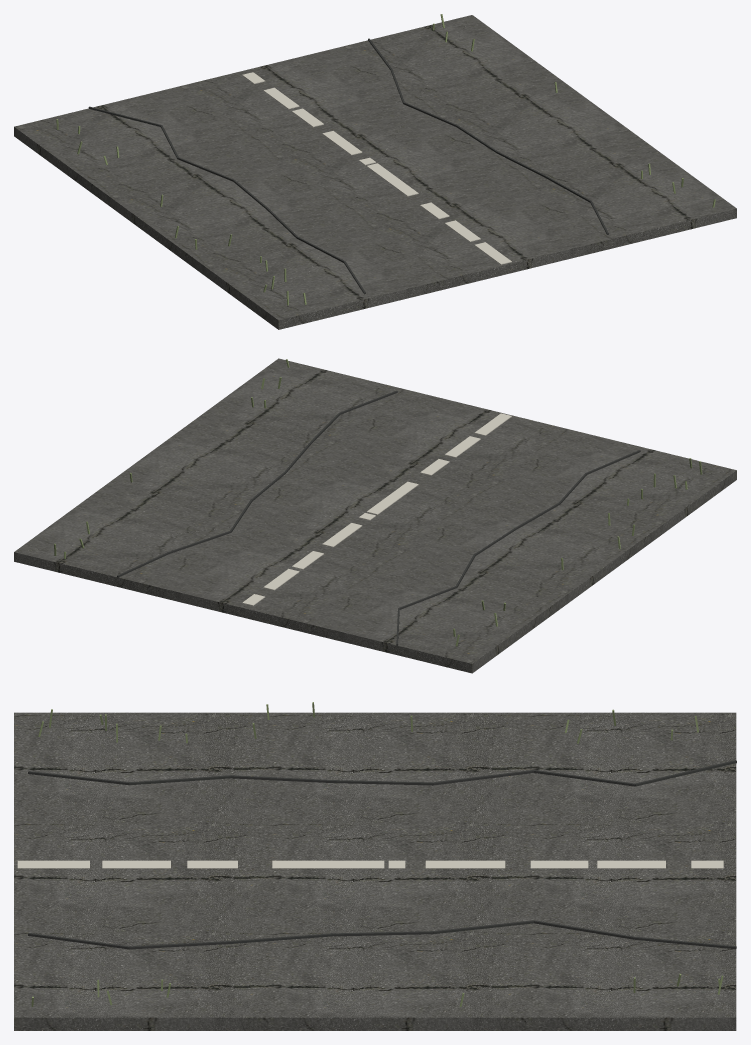
Rendered from runway_10x10.glb.
3 views of the same model, one above another, from view 1: azimuth 30°, elevation 25°; view 2: azimuth 150°, elevation 25°; view 3: azimuth 270°, elevation 25° (orthographic). The views are drawn at different scales.
Parts seen in each view (by area): view 1: Runway_cracked_asphalt_module_10m, Surface_crack_strips; view 2: Runway_cracked_asphalt_module_10m, Surface_crack_strips; view 3: Runway_cracked_asphalt_module_10m, Surface_crack_strips, Faded_runway_marking_3, Faded_runway_marking_5, Faded_runway_marking_0, Faded_runway_marking_1, Faded_runway_marking_7.
Boxes of the visible parts, x1,y1,x2,y2 form: Runway_cracked_asphalt_module_10m: [14, 15, 736, 329]; Surface_crack_strips: [88, 38, 608, 294]; Runway_cracked_asphalt_module_10m: [14, 358, 736, 673]; Surface_crack_strips: [117, 390, 640, 645]; Runway_cracked_asphalt_module_10m: [14, 712, 736, 1030]; Surface_crack_strips: [28, 760, 736, 949]; Faded_runway_marking_3: [272, 860, 384, 868]; Faded_runway_marking_5: [425, 860, 505, 868]; Faded_runway_marking_0: [17, 860, 89, 868]; Faded_runway_marking_1: [102, 860, 170, 868]; Faded_runway_marking_7: [597, 860, 665, 868].
Bounding box in the file's own units: 10 × 0.4775 × 10.01.
4 materials, 1 textured.
